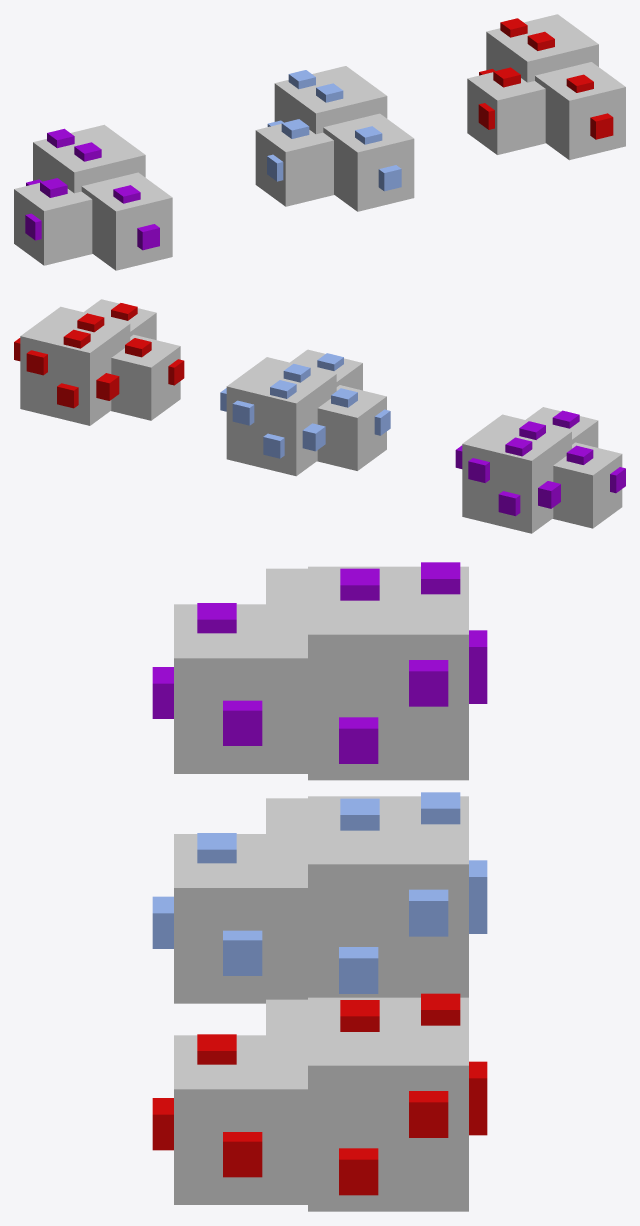
Rendered from mineral.fbx.
The picture shows the model from 3 angles, top to bottom: view 1: azimuth 30°, elevation 25°; view 2: azimuth 150°, elevation 25°; view 3: azimuth 270°, elevation 25°; orthographic projection. The views are drawn at different scales.
Visible parts, largest first — view 1: pCube335, pCube320, pCube337, pCube334, pCube336, pCube333; view 2: pCube335, pCube337, pCube320, pCube334, pCube333, pCube336; view 3: pCube320, pCube337, pCube335, pCube334, pCube336, pCube333.
Part boxes in pixels (x1,y1,x2,y2): pCube335: (255, 66, 414, 211); pCube320: (14, 124, 172, 270); pCube337: (467, 14, 625, 160); pCube334: (267, 70, 401, 191); pCube336: (478, 18, 613, 139); pCube333: (25, 128, 159, 250); pCube335: (226, 349, 386, 476); pCube337: (20, 299, 180, 425); pCube320: (462, 407, 622, 533); pCube334: (220, 353, 390, 458); pCube333: (455, 410, 625, 516); pCube336: (14, 303, 184, 408); pCube320: (174, 566, 468, 780); pCube337: (174, 997, 468, 1211); pCube335: (174, 796, 468, 1003); pCube334: (152, 792, 487, 993); pCube336: (152, 993, 487, 1195); pCube333: (152, 562, 487, 763).
Bounding box in the file's own units: 19.04 × 2.6 × 4.85.
